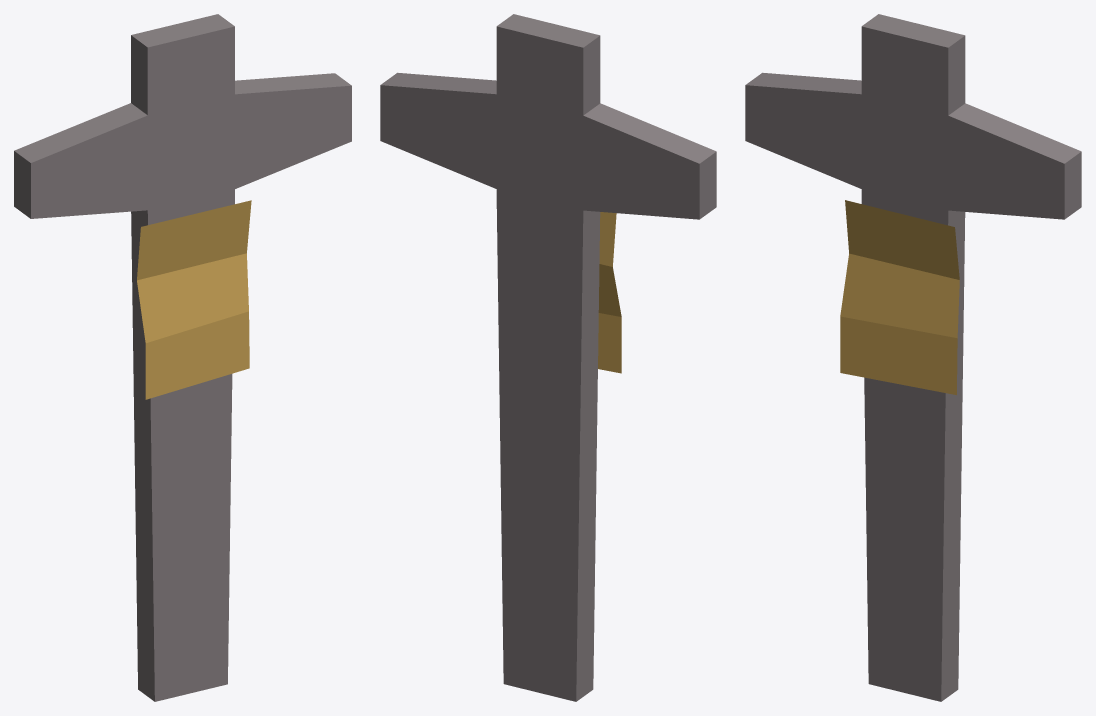
The model's file is RISTI 3.0.fbx.
3 views of the same model, side by side, from view 1: azimuth 30°, elevation 25°; view 2: azimuth 150°, elevation 25°; view 3: azimuth 330°, elevation 25° (orthographic).
Parts seen in each view (by area): view 1: RISTI; view 2: RISTI; view 3: RISTI.
Boxes of the visible parts, x1=… form: RISTI: x1=14, y1=14, x2=351, y2=701; RISTI: x1=380, y1=14, x2=716, y2=701; RISTI: x1=745, y1=14, x2=1081, y2=701.
Size of the model in its own units: 57.74 by 113 by 8.4.
